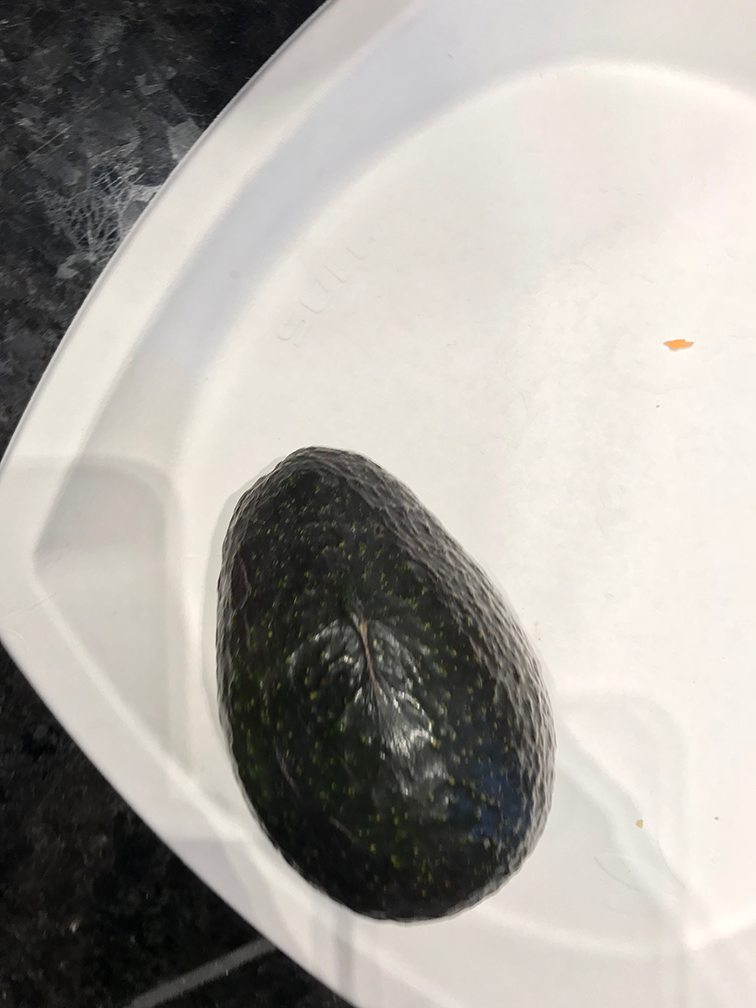avocado: (202, 435, 570, 932)
